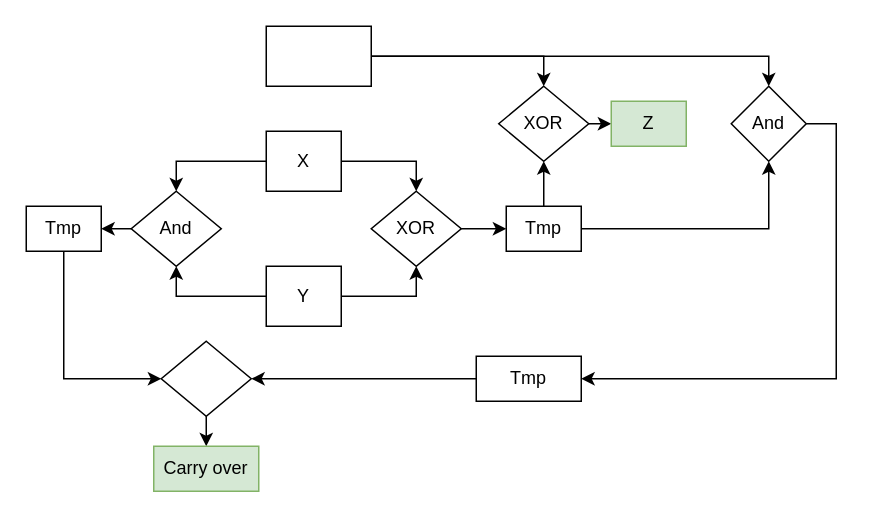
Some shapes in this 875 by 518 pixel diagram are drawn without their labels. Each missing label, with the centre of its shape:
CarryOver: the point at 318,55
OR: the point at 205,378
